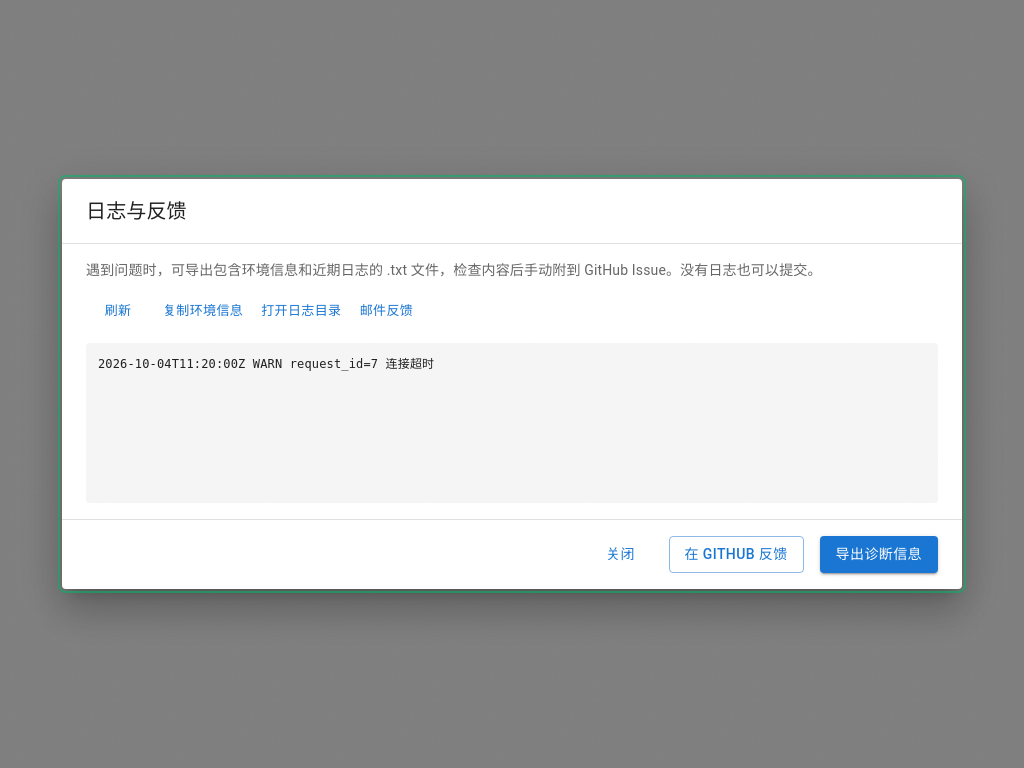
logs and feedback › saves only after the user selects a path and explains manual attachment
Expected: the text named "近期运行日志" is shown, [86,343,938,503]
Click the button "导出诊断信息" at (879, 554), box [820,536,938,573]
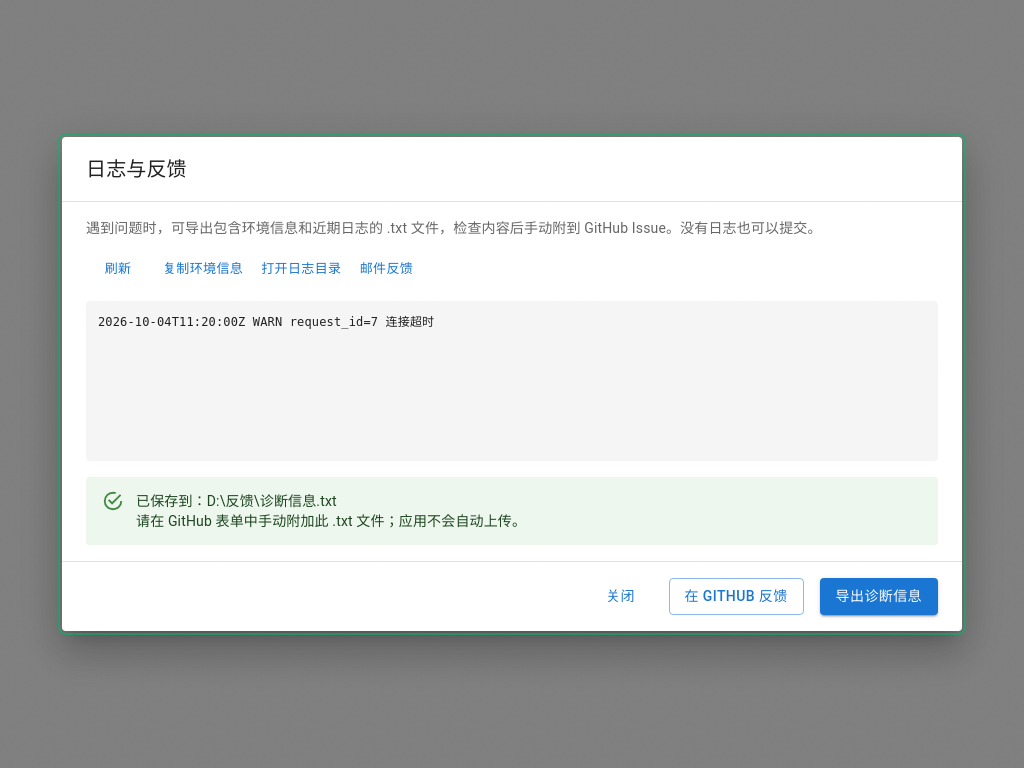
Expected: the text "已保存到：D:\\反馈\\诊断信息.txt" shows "手动附加", [136,513,526,529]
Expected: the text "已保存到" shows "不会自动上传", [136,513,526,529]
